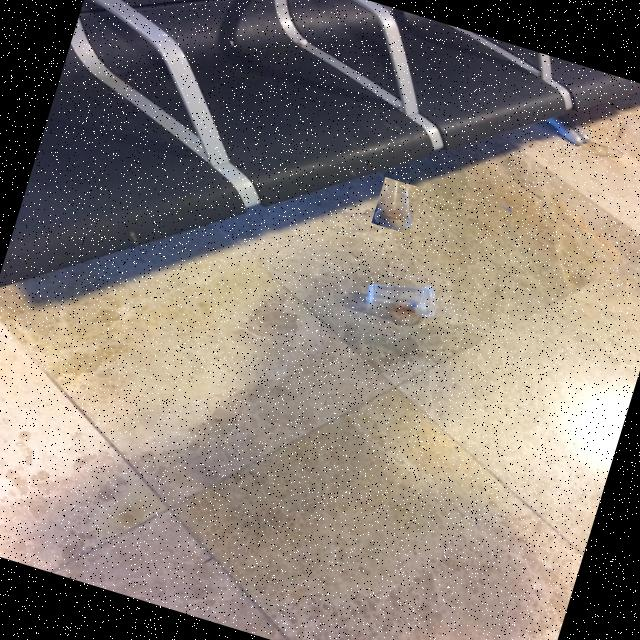Disposable plastic cup: (365, 284, 435, 317), (373, 181, 411, 230)
